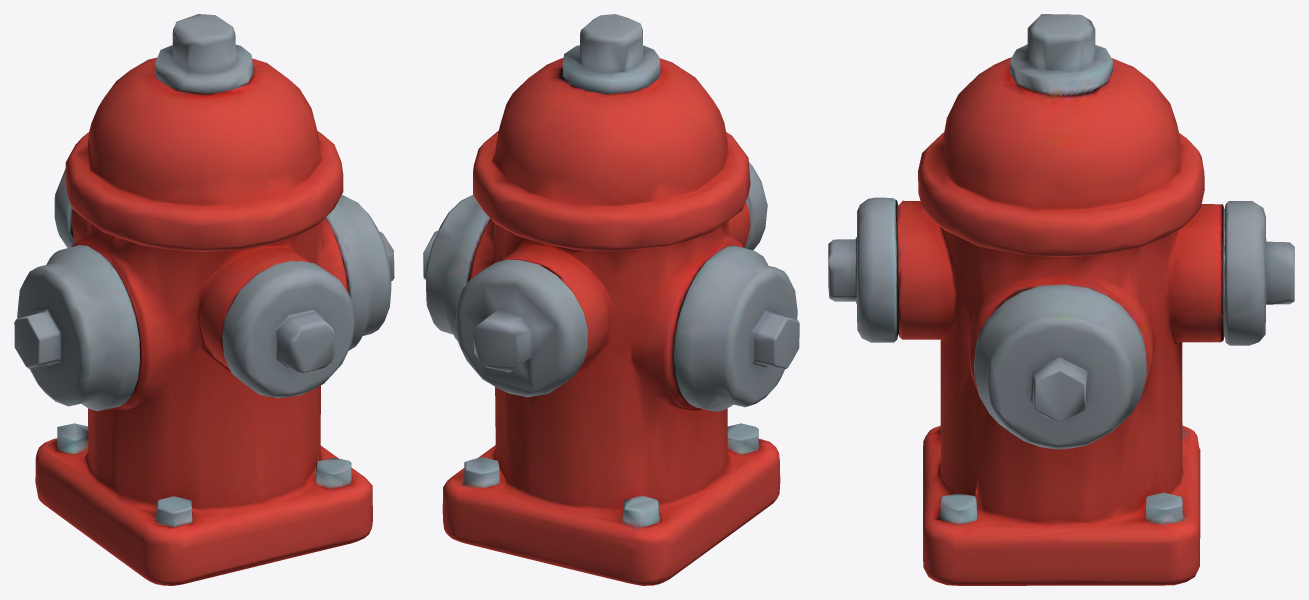
File: hydrant.glb
3 renders of one model, left to right at view 1: azimuth 30°, elevation 25°; view 2: azimuth 150°, elevation 25°; view 3: azimuth 270°, elevation 25°, orthographic. The views are drawn at different scales.
Parts seen in each view (by area): view 1: tripo_node_acbfa35c-b44c-4634-b428-691a831ffe70; view 2: tripo_node_acbfa35c-b44c-4634-b428-691a831ffe70; view 3: tripo_node_acbfa35c-b44c-4634-b428-691a831ffe70.
Boxes of the visible parts, x1,y1,x2,y2 form: tripo_node_acbfa35c-b44c-4634-b428-691a831ffe70: [14, 14, 394, 585]; tripo_node_acbfa35c-b44c-4634-b428-691a831ffe70: [423, 14, 799, 585]; tripo_node_acbfa35c-b44c-4634-b428-691a831ffe70: [828, 14, 1294, 585].
Bounding box in the file's own units: 0.7371 × 0.9782 × 0.8108.
Materials: 1 (1 with a texture image).
